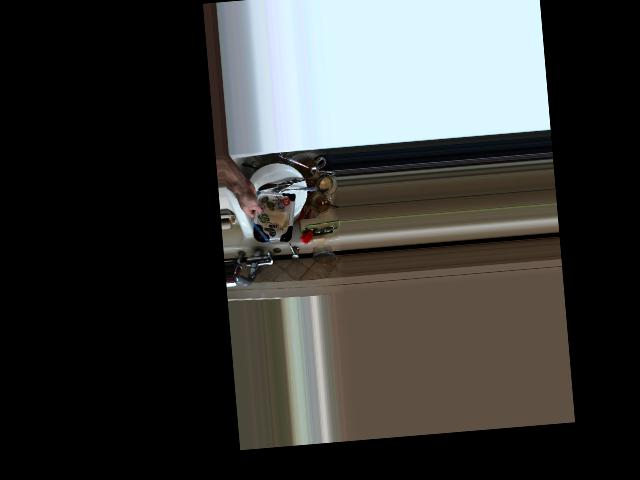cheese: (236, 180, 297, 249)
